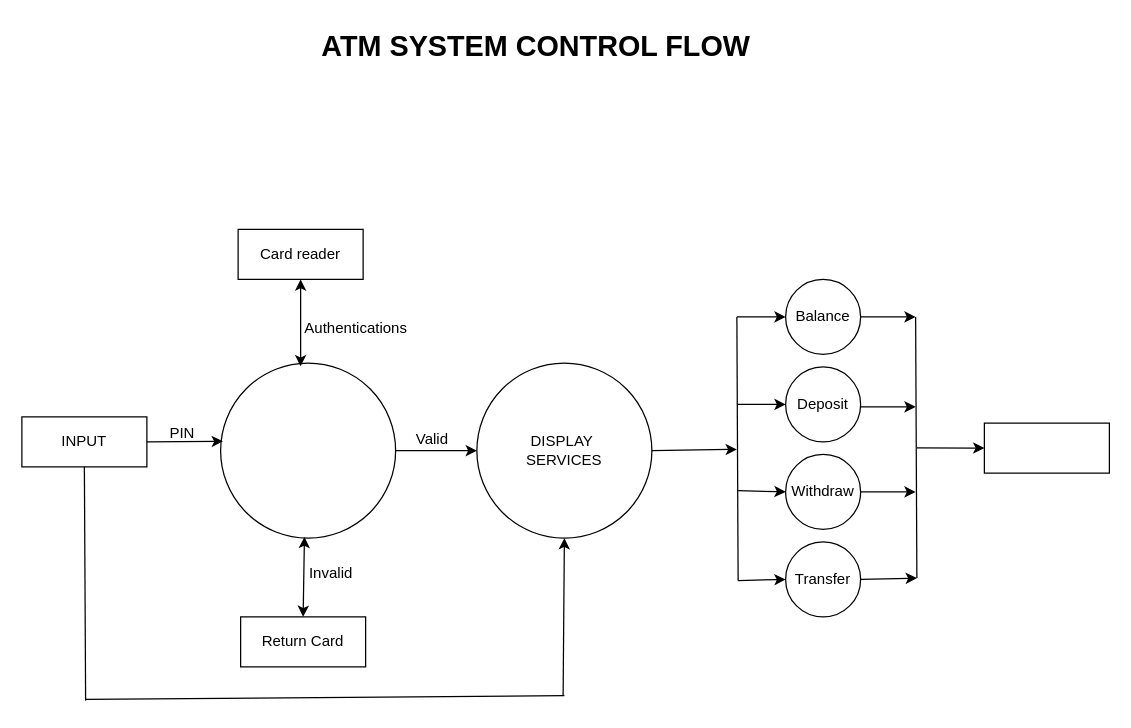
Some shapes in this 1131 by 728 pixel diagram are drawn without their labels. Here are the shapes that lost their labels. From the top down, the box of each, then its label:
(219, 362, 396, 538): AUTH SERVICES
(983, 422, 1109, 473): EXIT
